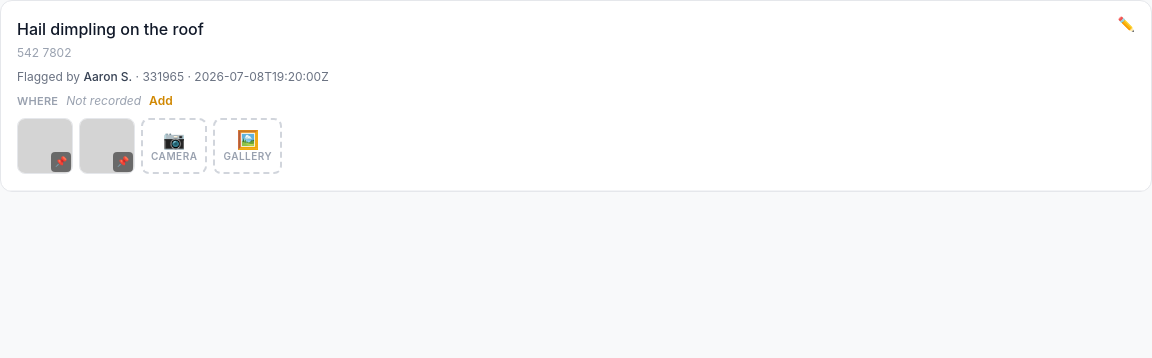
Test: HoldRecordCard — destructive edits › tapping a marked photo again un-marks it (undo before commit)
Click the button named "Edit this hold": [1126, 24] box [1118,17,1135,31]
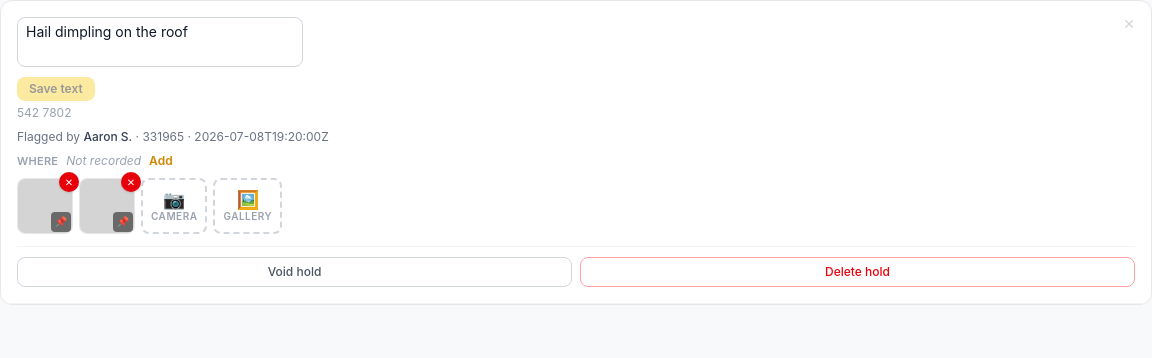
Click the button named "Remove this photo": [69, 182] box [59,172,79,192]
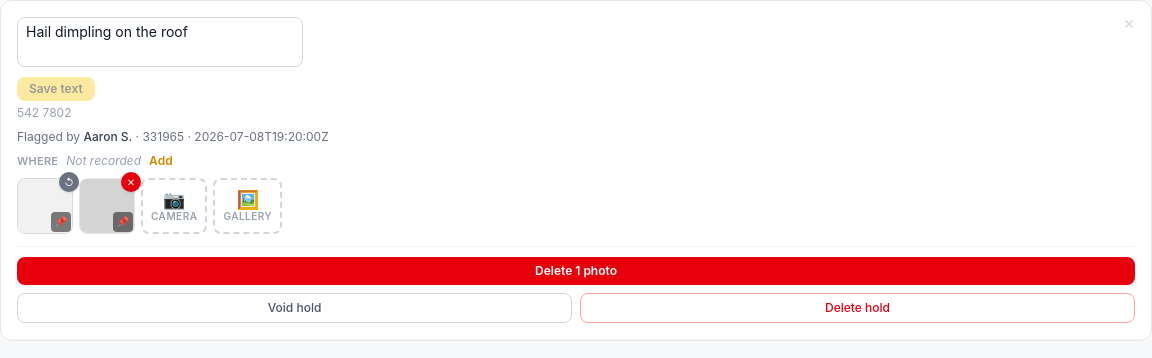
Result: the button "Delete 1 photo" is shown at [17,256,1135,284]
Click the button named "Undo remove": [69, 182] box [59,172,79,192]
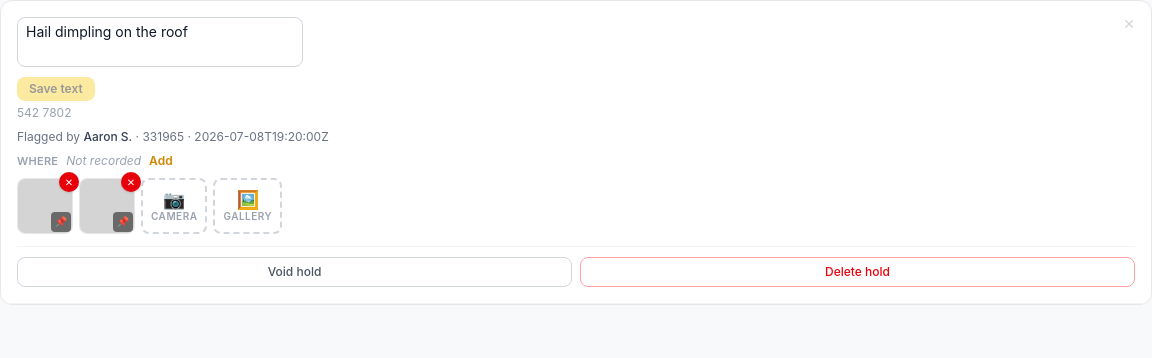
Result: the button "Delete 1 photo" is gone
